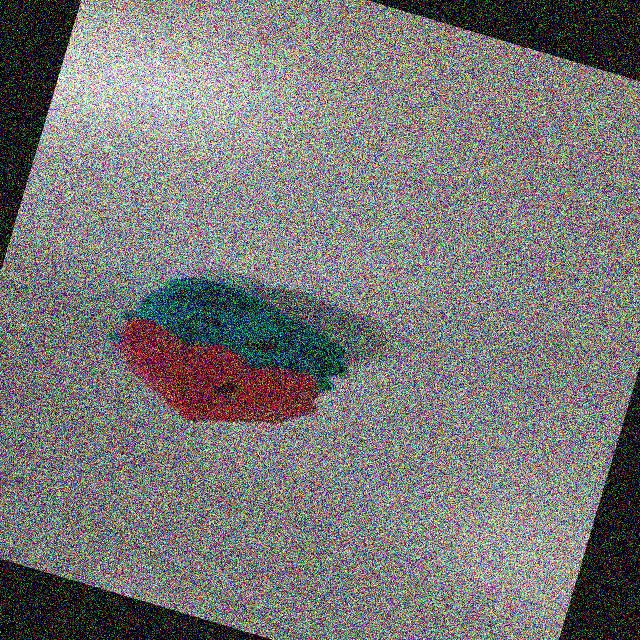House: (88, 255, 387, 476)
